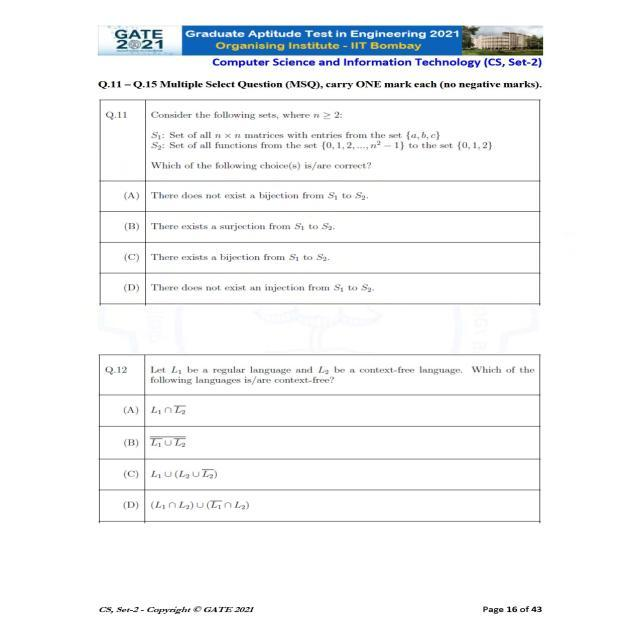Answer_Block: (62, 393, 586, 556), (62, 184, 586, 318)
Question_Answer_Block: (62, 73, 586, 319), (62, 337, 586, 556)
Question_Block: (62, 73, 586, 183), (62, 336, 586, 394)
Question_Paper_Area: (62, 73, 586, 556)
